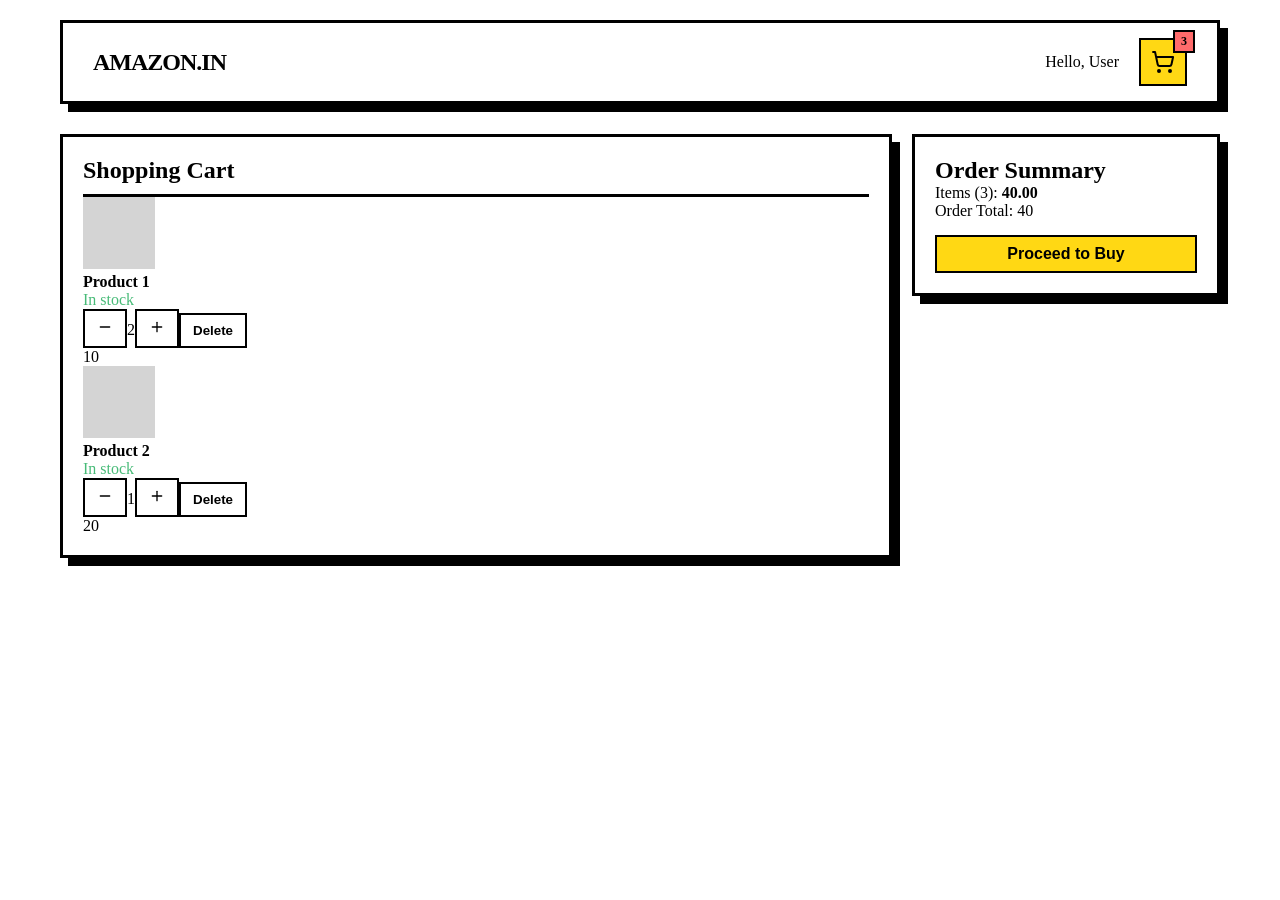
Test: AmazonStyleCart › opens the purchase modal when the checkout button is clicked
Click the button "Proceed to Buy": coordinates (1066, 254) x1=935 y1=235 x2=1197 y2=273
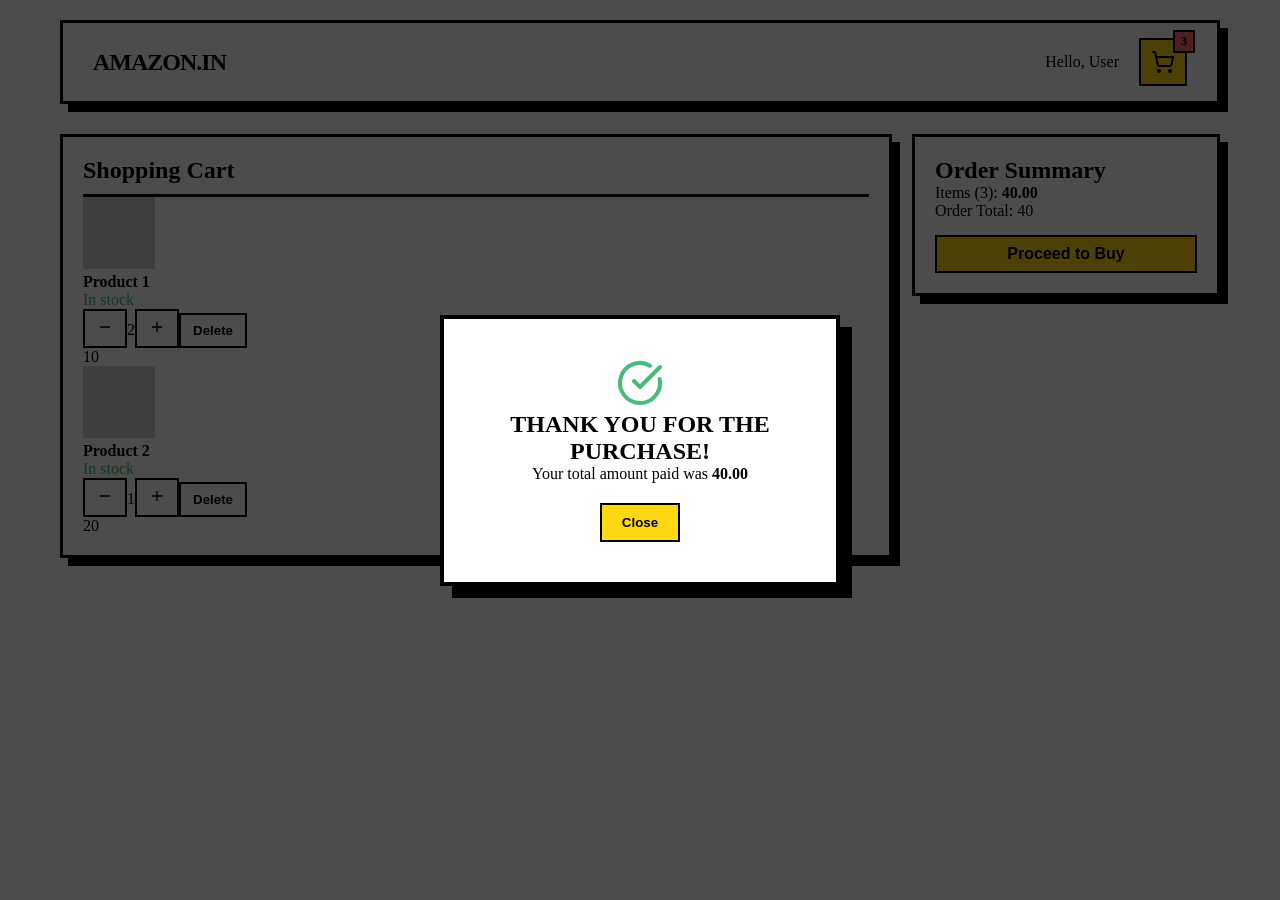
Expected: the heading "Thank you for the purchase!" is shown, x1=510 y1=410 x2=770 y2=464
